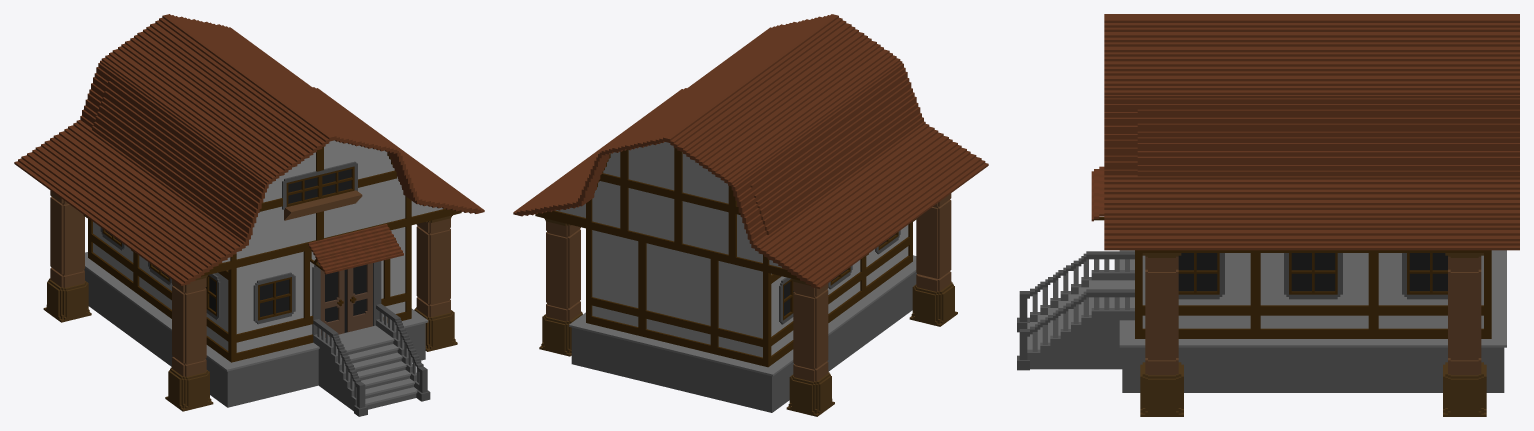
File: Casa 06.obj
3 renders of one model, left to right at view 1: azimuth 30°, elevation 25°; view 2: azimuth 150°, elevation 25°; view 3: azimuth 270°, elevation 25°, orthographic. The views are drawn at different scales.
Size of the model in its own units: 17 by 13.5 by 19.6.
1 material, 1 textured.
